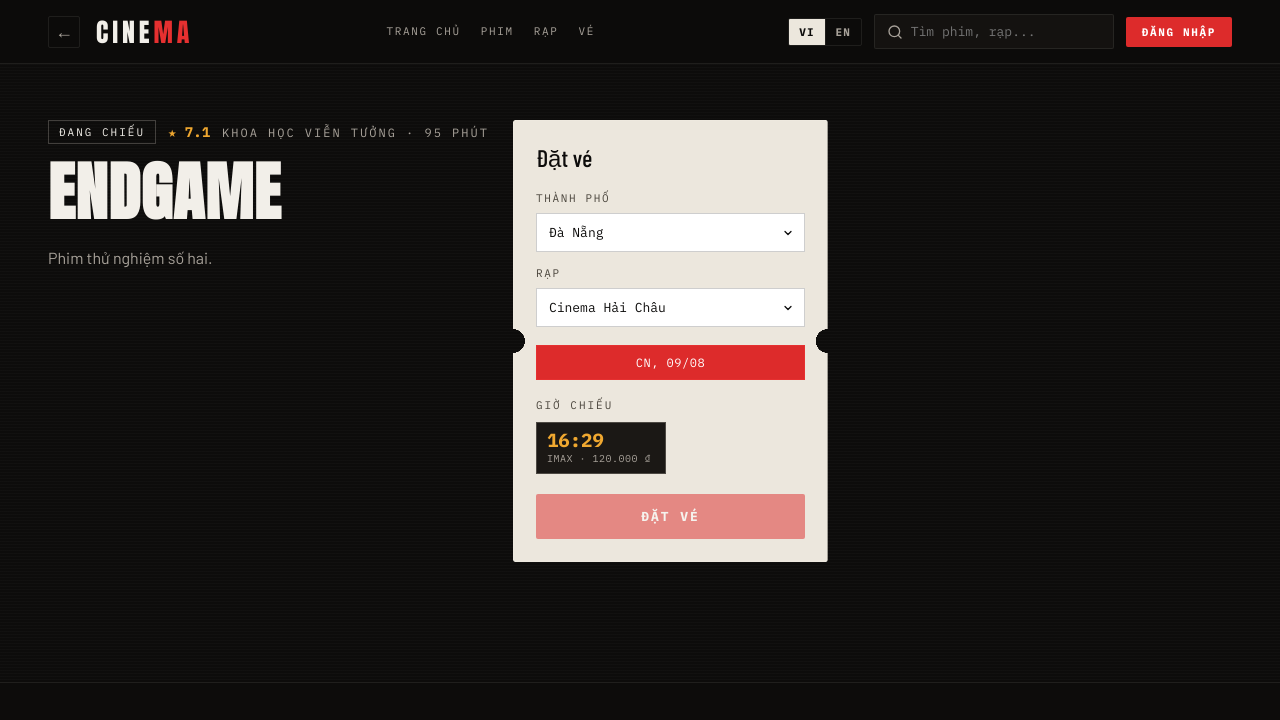
Scenario: MovieDetail — phễu đặt vé › phim chiếu ở thành phố khác: phễu tự nhắm đúng rạp của thành phố đó
This screenshot has width=1280, height=720.
Expected: the text "Đặt vé" is shown, [536,143,592,172]
Expected: the dropdown named "Chọn rạp" shows "Cinema Hải Châu", [536,288,805,327]
Click the button with class "time-k-btn": point(601, 448) [536,422,666,474]
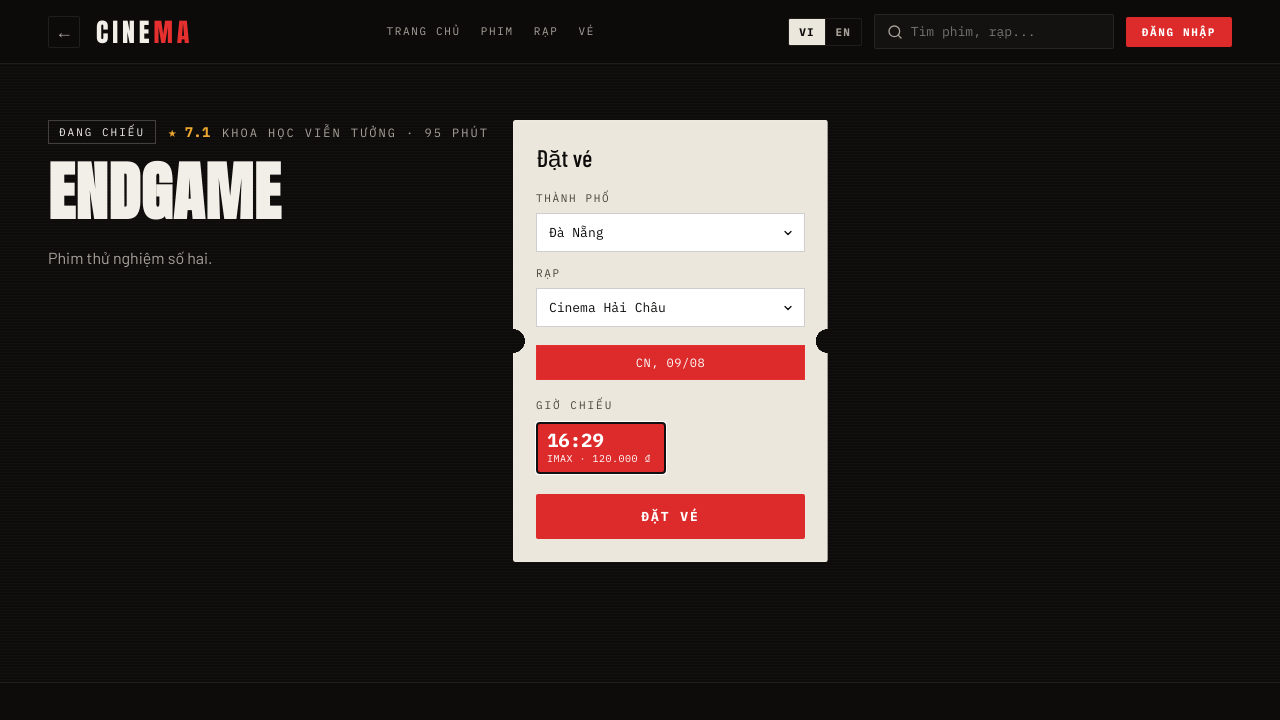
Result: the button "Đặt vé" is enabled at [536,494,805,539]
